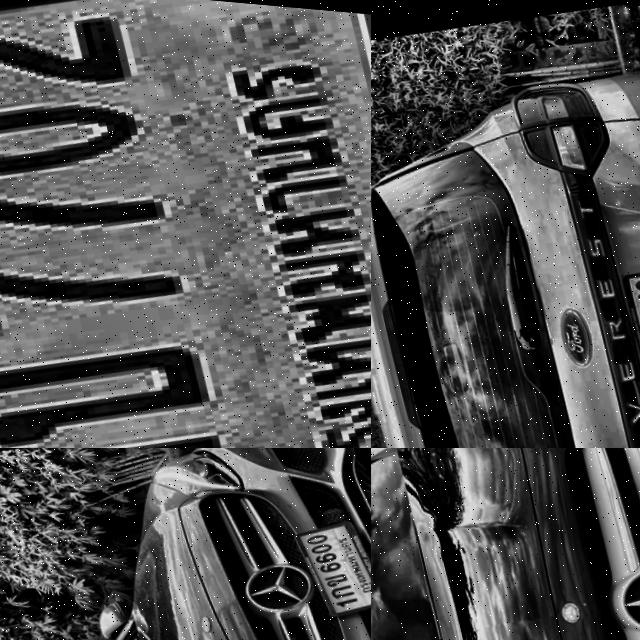license-plate: (0, 0, 371, 448), (285, 502, 371, 625), (616, 252, 640, 385)
